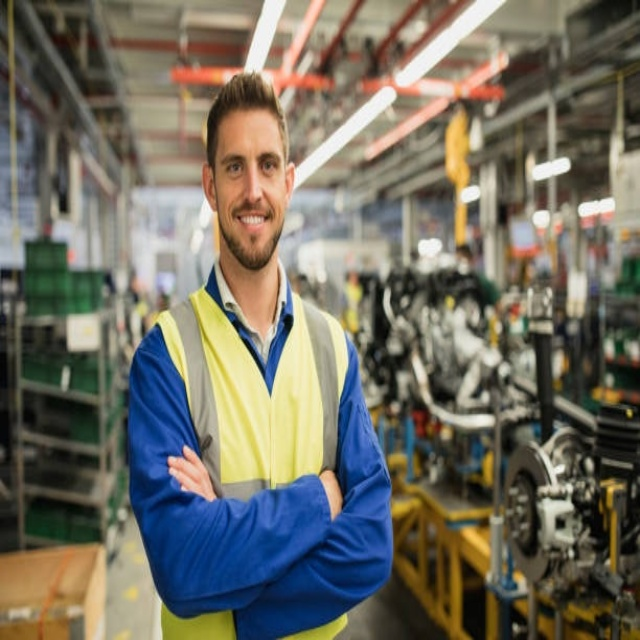Sin_gafas: (219, 136, 285, 184)
Sin_guantes: (167, 445, 217, 502)
Sin_mascara: (226, 201, 274, 251)
